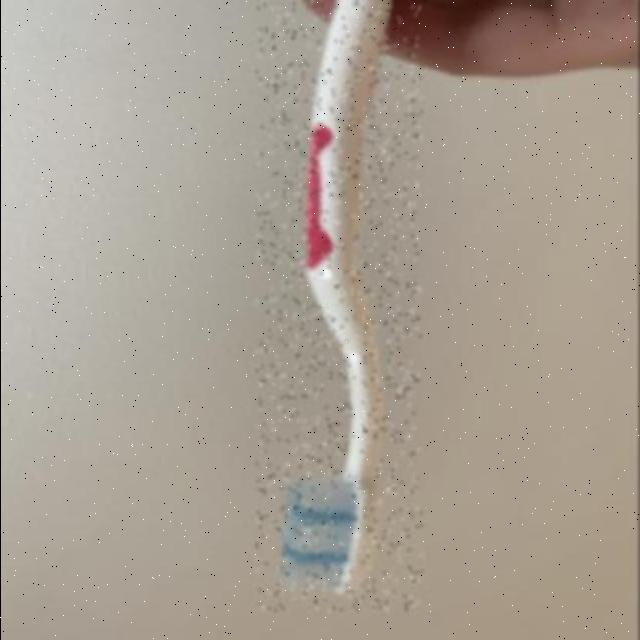toothbrush: (257, 0, 423, 610)
